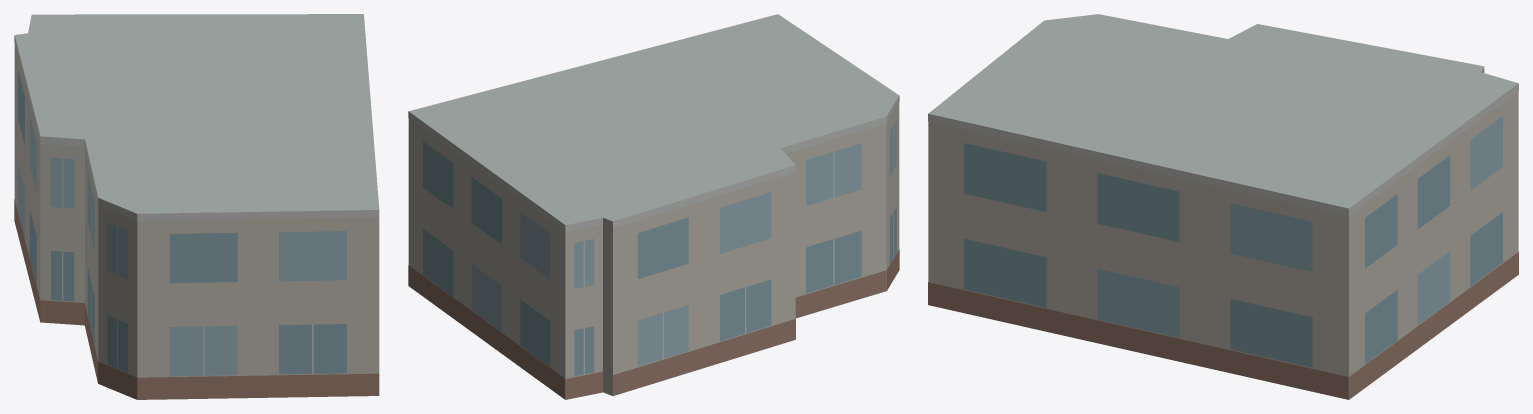
File: survey-upis-32632509.glb
3 renders of one model, left to right at view 1: azimuth 30°, elevation 25°; view 2: azimuth 150°, elevation 25°; view 3: azimuth 270°, elevation 25°, orthographic. The views are drawn at different scales.
Visible parts, largest first — view 1: survey-upis-32632509.tmp; view 2: survey-upis-32632509.tmp; view 3: survey-upis-32632509.tmp.
Part boxes in pixels (<box>): survey-upis-32632509.tmp: <box>14,14,379,399</box>; survey-upis-32632509.tmp: <box>408,14,899,399</box>; survey-upis-32632509.tmp: <box>928,14,1518,399</box>.
Bounding box in the file's own units: 13.31 × 6.1 × 17.07.
